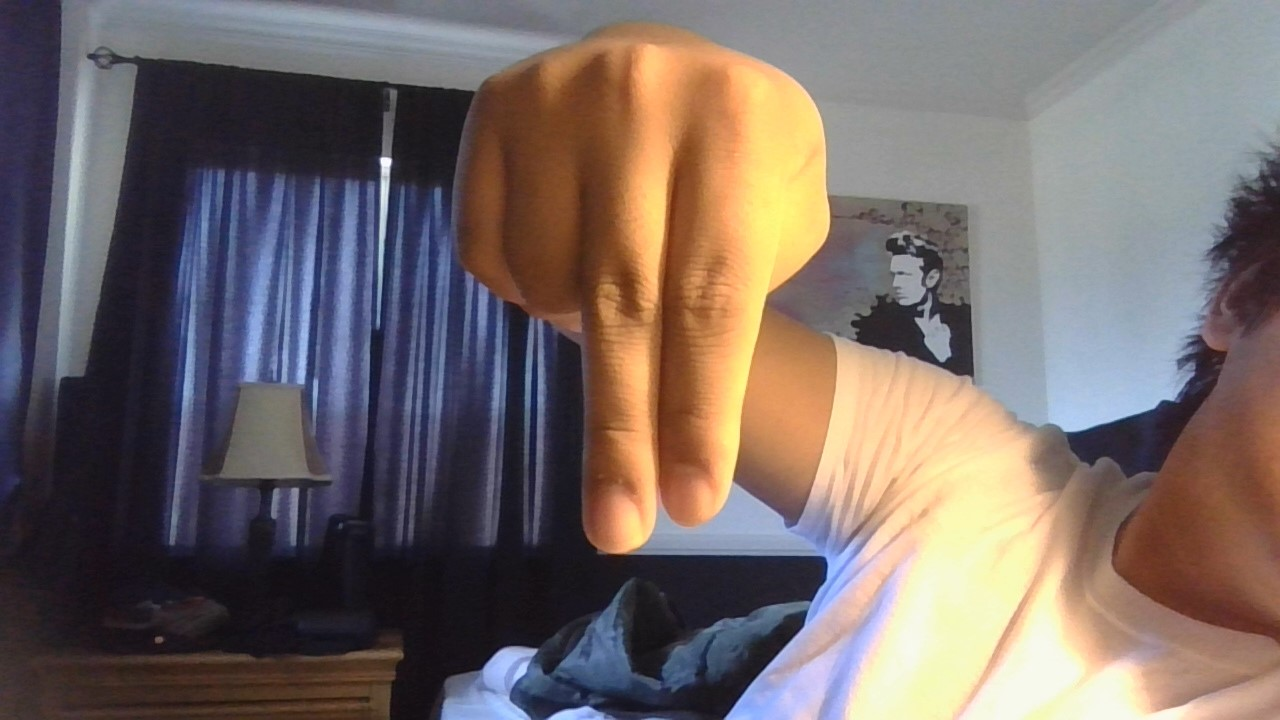n: (426, 4, 846, 541)
